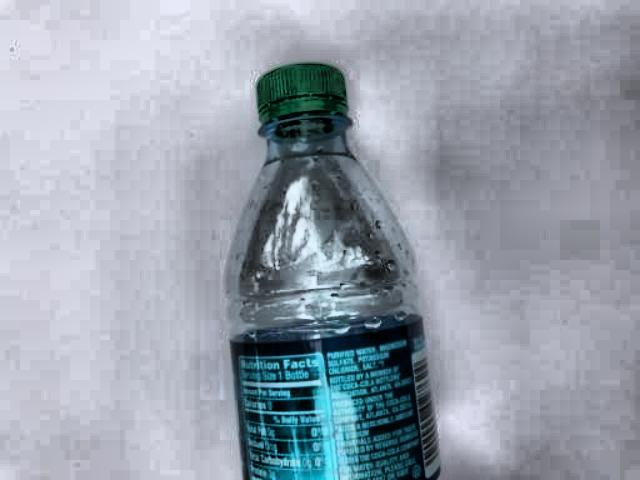Bottles: (192, 55, 466, 480)
